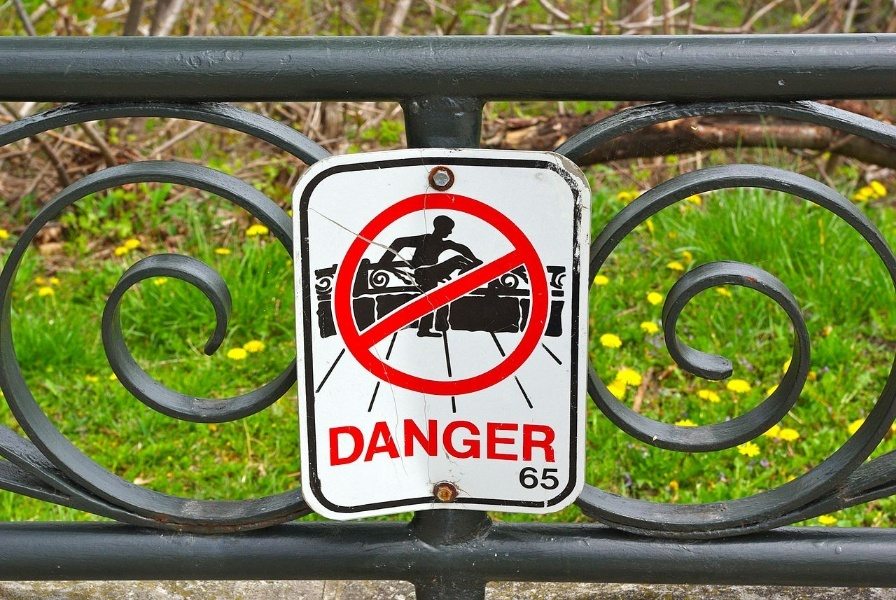text: (337, 418, 352, 468), (353, 418, 368, 468), (369, 418, 384, 468), (385, 418, 400, 468), (401, 418, 416, 468), (417, 418, 432, 468), (433, 418, 448, 468), (449, 418, 464, 468), (465, 418, 480, 468), (481, 418, 496, 468), (497, 418, 512, 468), (513, 418, 528, 468), (529, 418, 544, 468), (545, 418, 558, 468), (545, 467, 561, 491), (529, 467, 544, 491), (329, 418, 336, 468), (517, 467, 528, 491)
